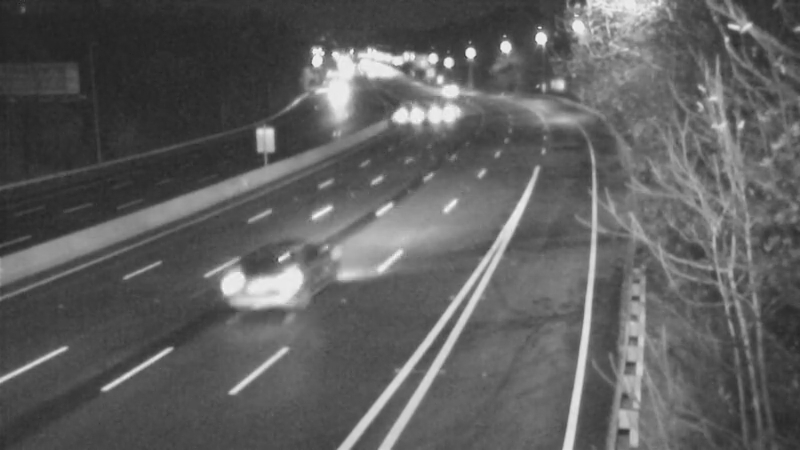vehicle: (205, 257, 285, 337), (427, 64, 477, 114), (408, 85, 458, 135), (372, 95, 422, 145), (312, 66, 362, 116)
